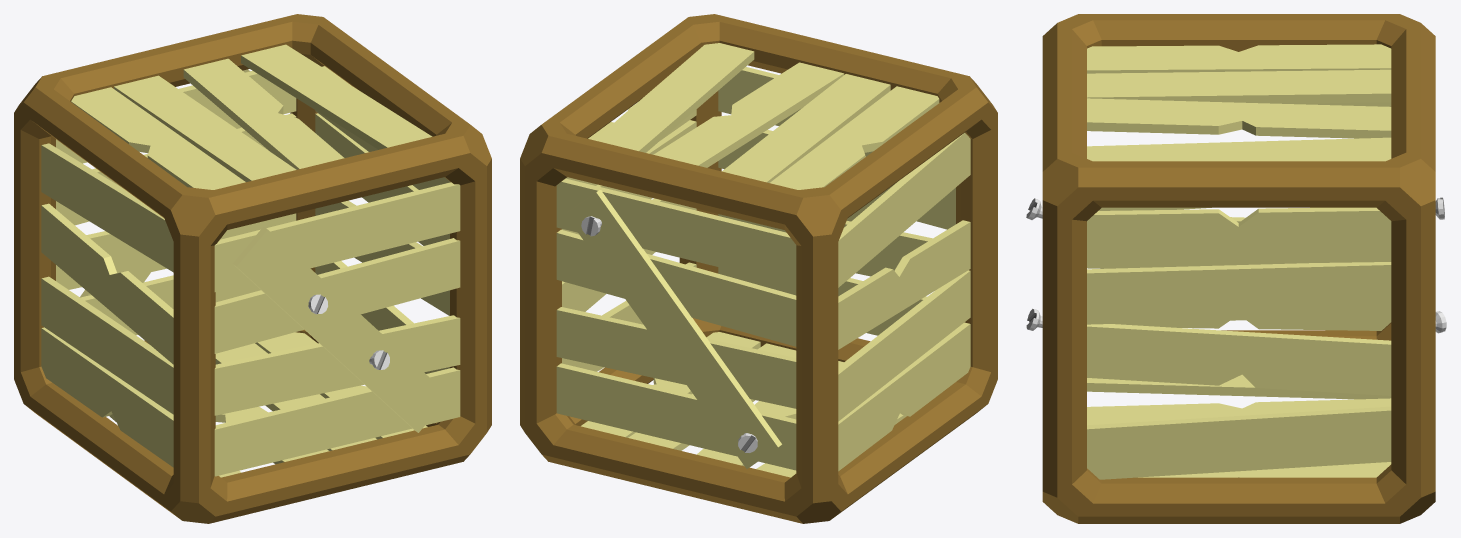
File: block_wood_1_separate.fbx
3 renders of one model, left to right at view 1: azimuth 30°, elevation 25°; view 2: azimuth 150°, elevation 25°; view 3: azimuth 270°, elevation 25°, orthographic. The views are drawn at different scales.
Visible parts, largest first — view 1: block_wood_1_separate, block_wood_1.001_separate; view 2: block_wood_1_separate, block_wood_1.001_separate; view 3: block_wood_1_separate, block_wood_1.001_separate.
Part boxes in pixels (x1=…): block_wood_1_separate: x1=14, y1=14, x2=491, y2=523; block_wood_1.001_separate: x1=315, y1=66, x2=449, y2=373; block_wood_1_separate: x1=520, y1=14, x2=997, y2=523; block_wood_1.001_separate: x1=562, y1=104, x2=696, y2=371; block_wood_1_separate: x1=1026, y1=14, x2=1446, y2=523; block_wood_1.001_separate: x1=1087, y1=207, x2=1391, y2=479.
Size of the model in its own units: 200 by 200 by 214.
